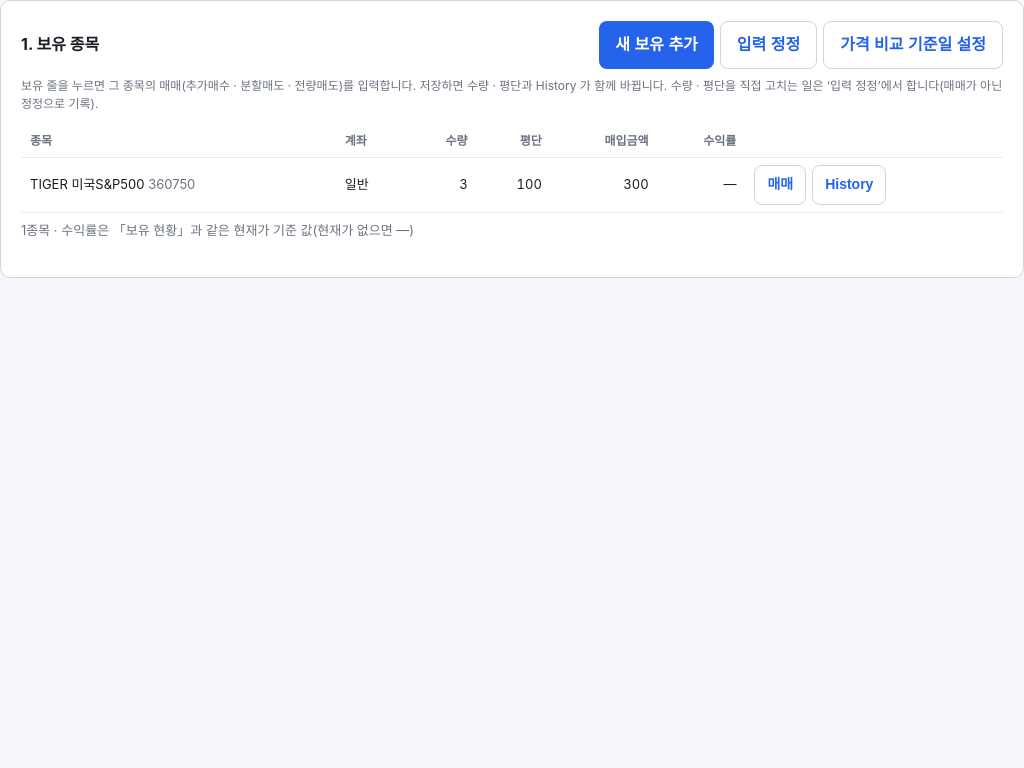
Scenario: 가격 비교 기준일 일괄 설정 창 › 대상이 없으면 안내만 · 설정 버튼은 누를 수 없다
This screenshot has width=1024, height=768.
Click the button "가격 비교 기준일 설정" at (913, 45), box [823,21,1003,69]
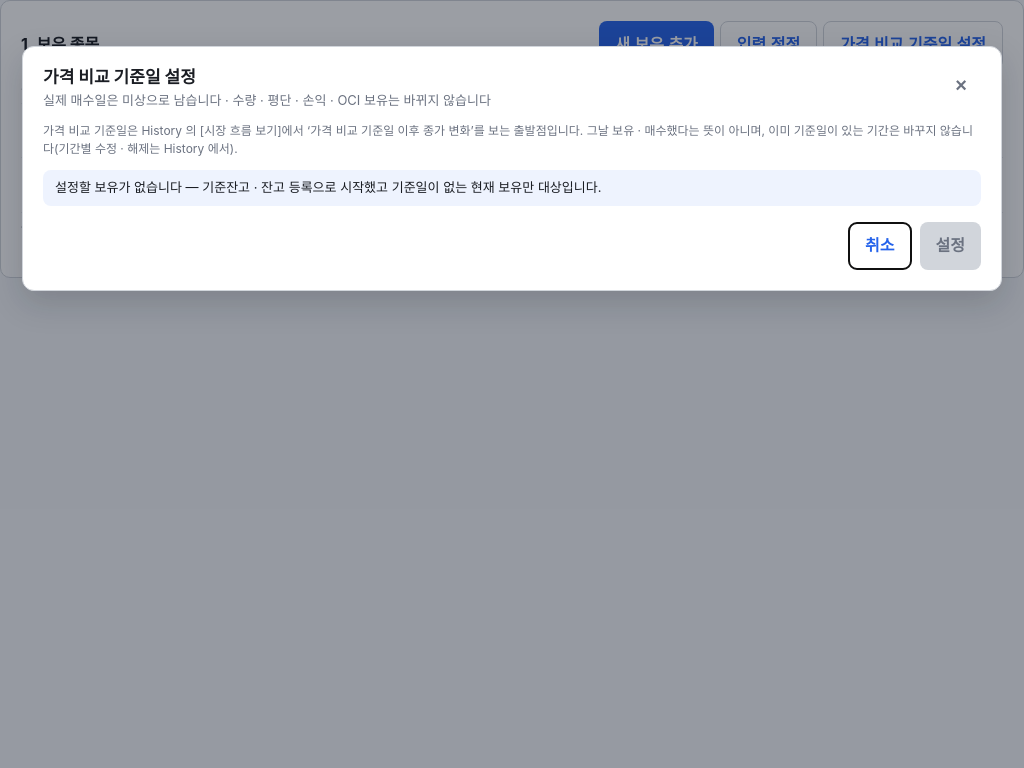
Now the text "설정할 보유가 없습니다 — 기준잔고 · 잔고 등록으로 시작했고 기준일이 없는 현재 보유만 대상입니다." is shown, box [43,170,981,206]
Now the button "설정" is disabled, box [920,222,981,270]
